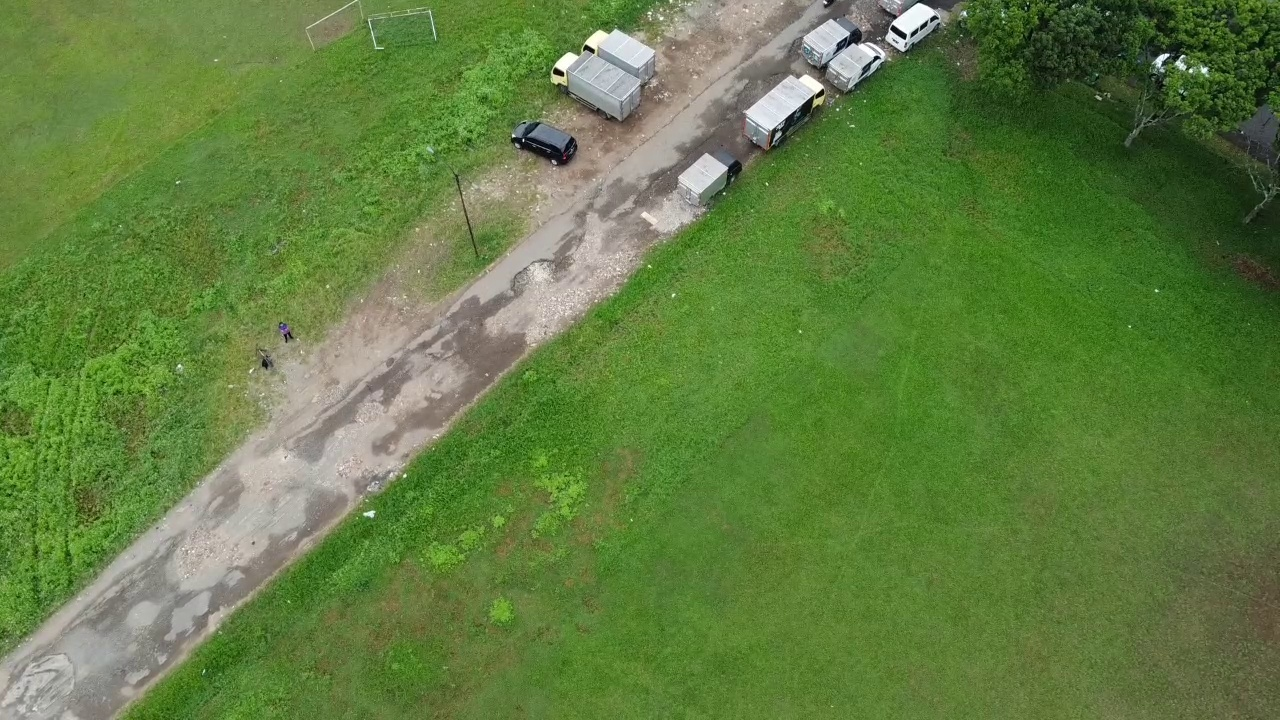mobil: (510, 116, 583, 167), (883, 2, 944, 53)
